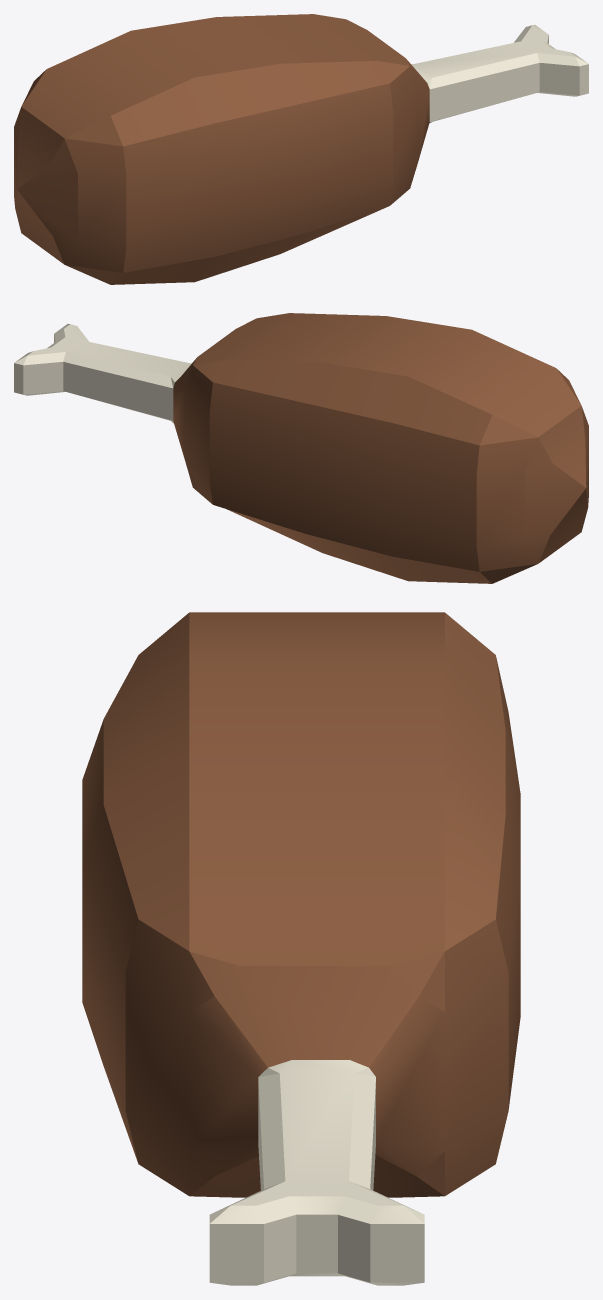
The model's file is Nóżka.fbx.
The picture shows the model from 3 angles, top to bottom: view 1: azimuth 30°, elevation 25°; view 2: azimuth 150°, elevation 25°; view 3: azimuth 270°, elevation 25°; orthographic projection. The views are drawn at different scales.
Visible parts, largest first — view 1: Nóżka; view 2: Nóżka; view 3: Nóżka.
Part boxes in pixels (x1,y1,x2,y2): Nóżka: [14, 14, 588, 284]; Nóżka: [14, 313, 588, 583]; Nóżka: [82, 612, 520, 1285].
Bounding box in the file's own units: 11.08 × 3.98 × 3.86.
